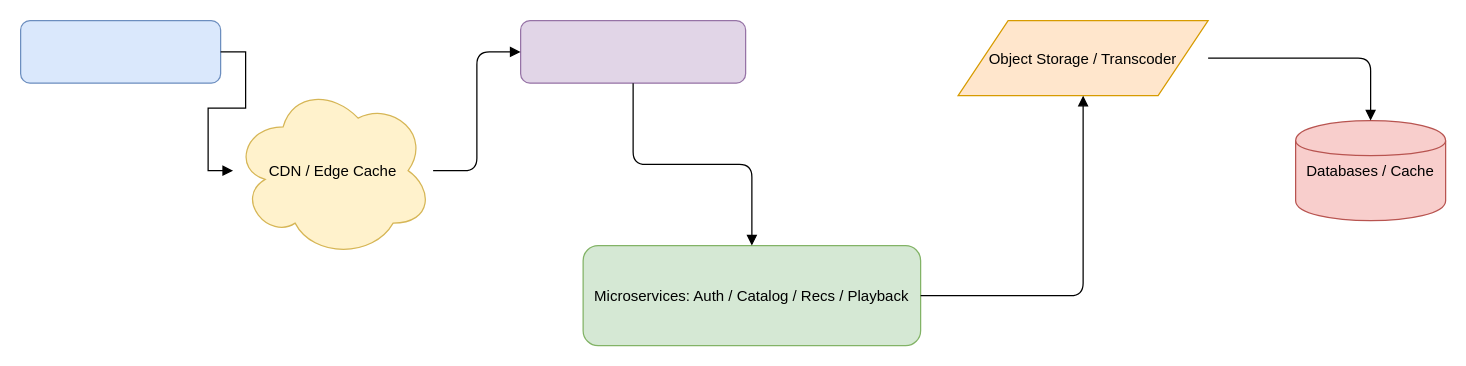
The diagram is 1466 pixels wide and 366 high, and some of its shapes have lost their labels. The shapes that lost their labels are listed below. From the top down, each one's box as (x1, y1, x2, y2) in pixels, then its label:
(19, 19, 221, 83): Clients (Web / Mobile / TV)
(519, 19, 746, 83): API Gateway / Load Balancer
